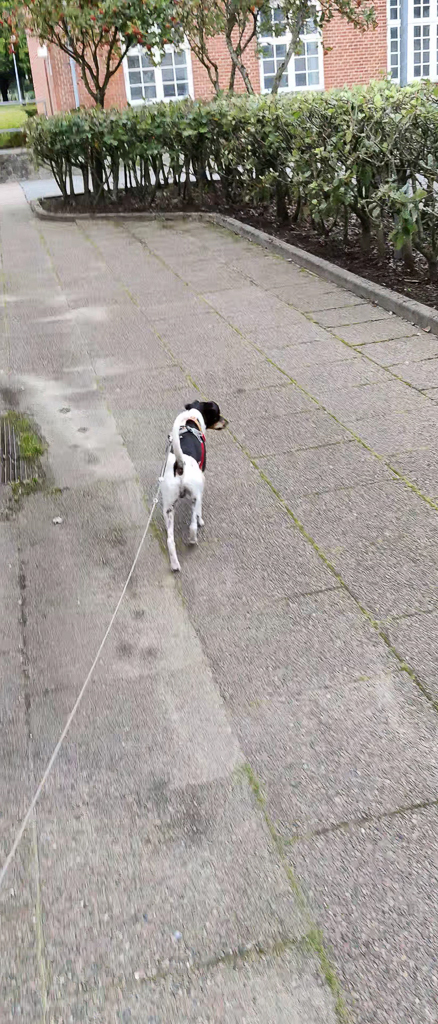Dog: (144, 391, 239, 577)
